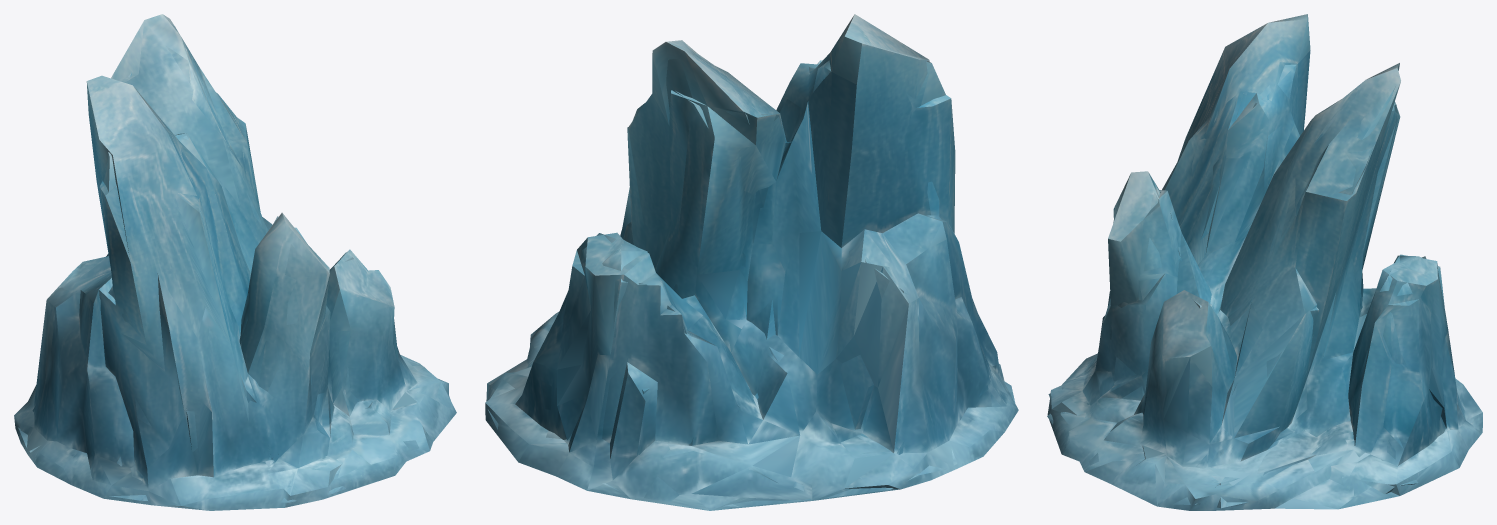
3 views of the same model, side by side, from view 1: azimuth 30°, elevation 25°; view 2: azimuth 150°, elevation 25°; view 3: azimuth 270°, elevation 25° (orthographic). The views are drawn at different scales.
Visible parts, largest first — view 1: glacier-spires.002; view 2: glacier-spires.002; view 3: glacier-spires.002.
Boxes of the visible parts, x1,y1,x2,y2 form: glacier-spires.002: [14, 14, 456, 510]; glacier-spires.002: [485, 14, 1018, 510]; glacier-spires.002: [1047, 14, 1482, 510].
Bounding box in the file's own units: 14.66 × 12.99 × 14.46.
Materials: 1 (1 with a texture image).
